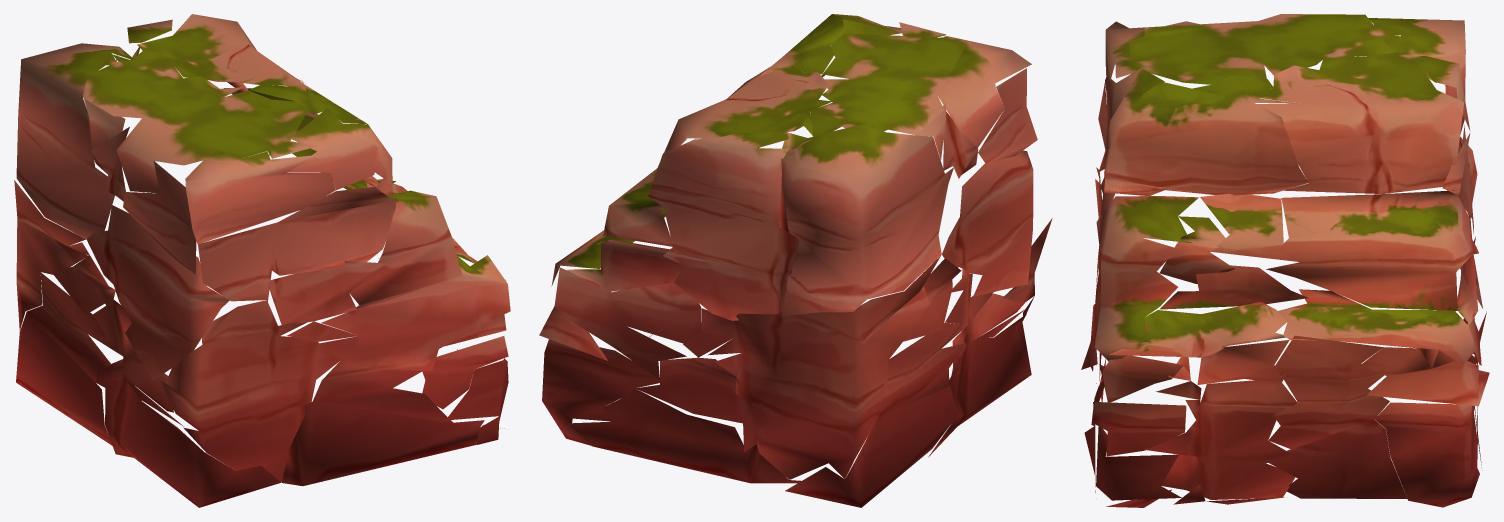
File: sandstone-module.glb
3 views of the same model, side by side, from view 1: azimuth 30°, elevation 25°; view 2: azimuth 150°, elevation 25°; view 3: azimuth 270°, elevation 25° (orthographic). The views are drawn at different scales.
Visible parts, largest first — view 1: sandstone_module; view 2: sandstone_module; view 3: sandstone_module.
Boxes of the visible parts, x1,y1,x2,y2 form: sandstone_module: (14, 14, 510, 507); sandstone_module: (539, 14, 1052, 507); sandstone_module: (1081, 14, 1489, 507).
Bounding box in the file's own units: 1.05 × 1.05 × 1.06.
Materials: 1 (1 with a texture image).
